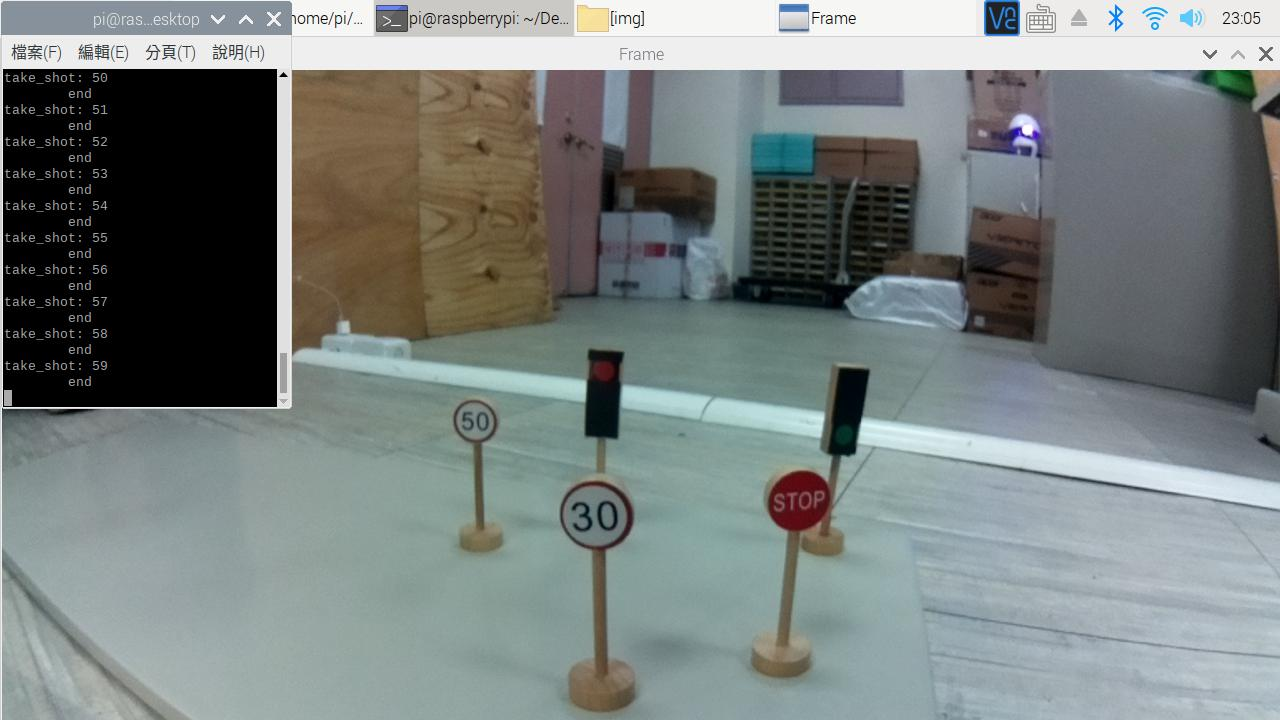Green: (824, 364, 870, 454)
Red: (585, 351, 624, 439)
Speed30: (553, 478, 637, 555)
Speed50: (453, 396, 501, 444)
Stop: (764, 462, 832, 534)
